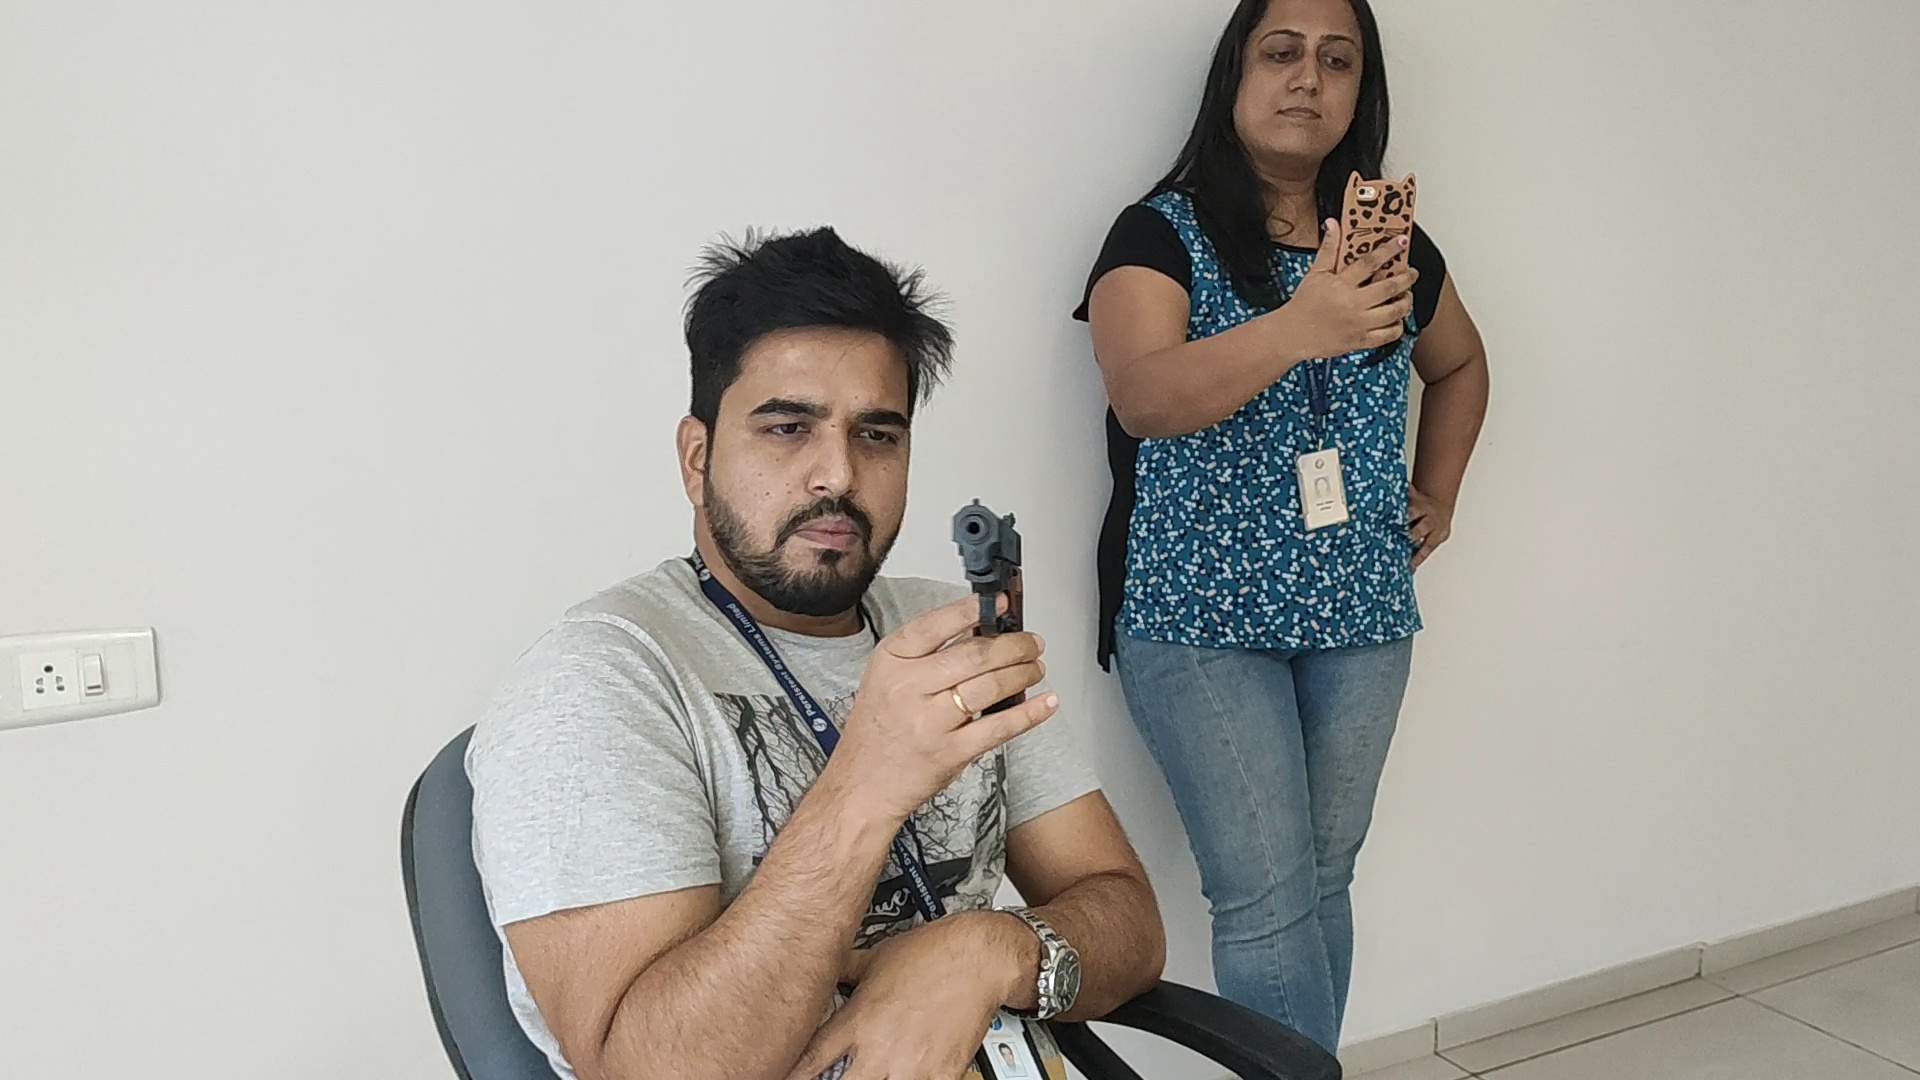gun: (951, 498, 1022, 589)
